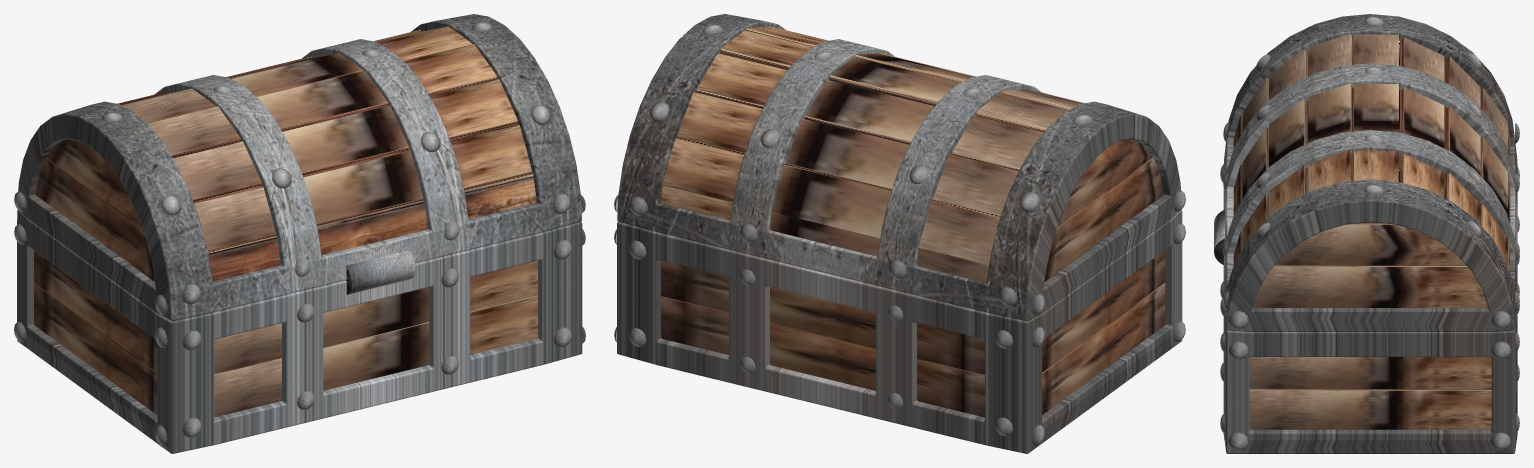
Rendered from TreasureChest.glb.
3 views of the same model, side by side, from view 1: azimuth 30°, elevation 25°; view 2: azimuth 150°, elevation 25°; view 3: azimuth 270°, elevation 25° (orthographic). The views are drawn at different scales.
Visible parts, largest first — view 1: Cylinder, Cube.008, Cube.009, Cube, Cube.010, Cube.005, Cube.007, Cube.011, Cube.022, Cube.028, Cube.021, Cube.025 (+1 smaller); view 2: Cylinder, Cube.013, Cube.014, Cube.012, Cube.002, Cube.003, Cube.011, Cube.022, Cube.028, Cube.015, Cube.021, Cube.025 (+1 smaller); view 3: Cylinder, Cube.018, Cube.030, Cube.016, Cube.029, Cube.011, Cube.010, Cube.012, Cube.009, Cube.013, Cube.014, Cube.008 (+2 smaller).
Part boxes in pixels (x1=…): Cylinder: x1=17, y1=14, x2=582, y2=453; Cube.008: x1=194, y1=124, x2=531, y2=250; Cube.009: x1=173, y1=79, x2=518, y2=203; Cube: x1=214, y1=295, x2=537, y2=417; Cube.010: x1=148, y1=44, x2=496, y2=158; Cube.005: x1=214, y1=260, x2=537, y2=374; Cube.007: x1=208, y1=172, x2=536, y2=281; Cube.011: x1=122, y1=26, x2=472, y2=123; Cube.022: x1=34, y1=283, x2=157, y2=414; Cube.028: x1=35, y1=157, x2=154, y2=281; Cube.021: x1=34, y1=250, x2=157, y2=372; Cube.025: x1=46, y1=139, x2=141, y2=226; Cylinder: x1=617, y1=14, x2=1182, y2=453; Cube.013: x1=676, y1=92, x2=1018, y2=217; Cube.014: x1=662, y1=138, x2=999, y2=264; Cube.012: x1=695, y1=53, x2=1043, y2=171; Cube.002: x1=661, y1=296, x2=984, y2=417; Cube.003: x1=661, y1=260, x2=984, y2=374; Cube.011: x1=720, y1=30, x2=1069, y2=132; Cube.022: x1=1042, y1=283, x2=1165, y2=414; Cube.028: x1=1044, y1=157, x2=1163, y2=281; Cube.015: x1=661, y1=185, x2=989, y2=282; Cube.021: x1=1042, y1=250, x2=1165, y2=372; Cube.025: x1=1057, y1=139, x2=1152, y2=226; Cylinder: x1=1223, y1=14, x2=1517, y2=453; Cube.018: x1=1249, y1=389, x2=1491, y2=429; Cube.030: x1=1253, y1=265, x2=1488, y2=307; Cube.016: x1=1249, y1=357, x2=1491, y2=389; Cube.029: x1=1275, y1=222, x2=1465, y2=265; Cube.011: x1=1354, y1=34, x2=1398, y2=181; Cube.010: x1=1308, y1=33, x2=1353, y2=192; Cube.012: x1=1400, y1=37, x2=1444, y2=197; Cube.009: x1=1269, y1=49, x2=1308, y2=216; Cube.013: x1=1444, y1=57, x2=1480, y2=224; Cube.014: x1=1480, y1=88, x2=1507, y2=265; Cube.008: x1=1242, y1=78, x2=1268, y2=248.
Bounding box in the file's own units: 3.32 × 2.06 × 2.22.
2 materials, 2 textured.
